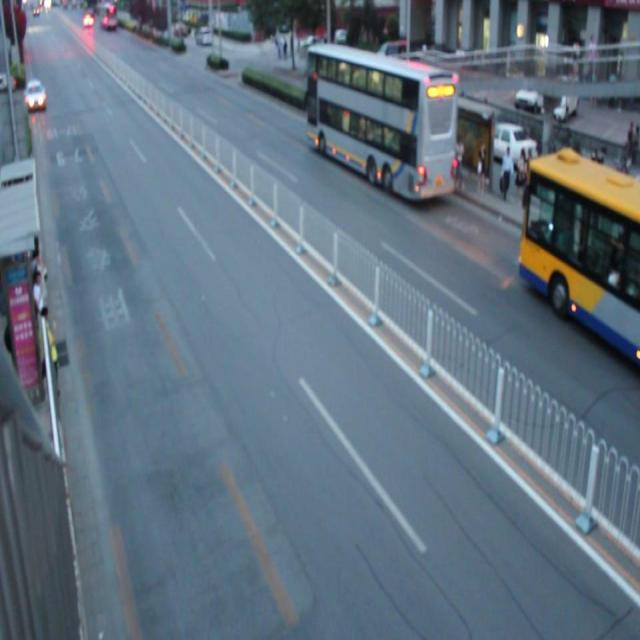van: (518, 153, 640, 364), (305, 44, 459, 200)
